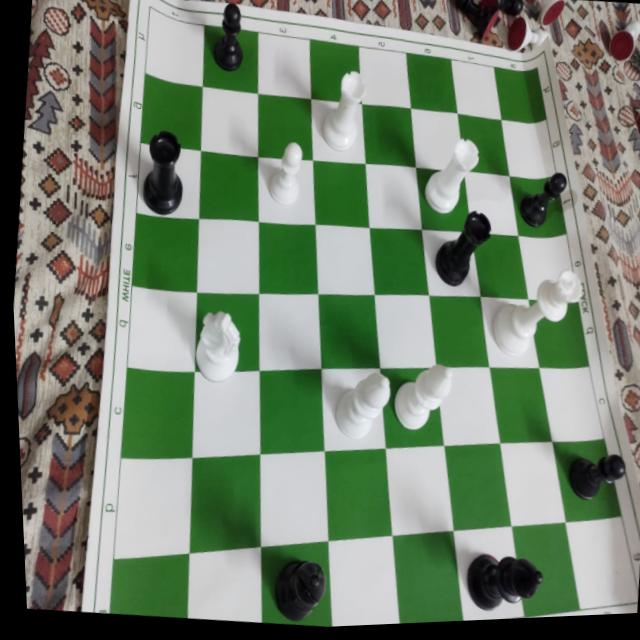board: (89, 0, 639, 627)
square: (113, 458, 192, 559), (189, 454, 260, 553), (565, 516, 638, 610), (453, 526, 524, 621), (120, 367, 194, 458), (392, 530, 463, 624), (511, 522, 580, 616), (328, 536, 400, 626), (260, 451, 328, 546), (324, 448, 392, 541), (260, 541, 332, 627), (385, 446, 453, 536), (191, 371, 260, 458), (127, 286, 195, 373), (444, 443, 511, 531), (552, 438, 621, 522), (259, 368, 324, 454), (500, 441, 565, 527), (187, 547, 261, 622), (131, 212, 199, 292), (321, 368, 385, 451), (109, 553, 189, 618), (380, 368, 444, 449), (194, 293, 259, 372), (435, 367, 500, 445), (136, 142, 201, 218), (140, 72, 202, 151), (538, 367, 604, 441), (258, 293, 321, 370), (197, 218, 259, 294), (145, 7, 204, 86), (318, 294, 380, 369), (489, 367, 551, 442), (374, 294, 436, 368), (429, 295, 489, 368), (258, 223, 318, 294), (314, 224, 374, 294), (480, 297, 539, 368), (528, 299, 589, 367), (199, 151, 258, 221), (257, 156, 315, 225), (369, 228, 428, 295), (421, 229, 480, 296), (201, 87, 257, 157), (517, 235, 577, 299), (313, 160, 369, 228), (365, 163, 422, 229), (257, 93, 313, 160), (202, 25, 257, 93), (471, 233, 528, 298), (415, 167, 471, 232), (463, 170, 518, 235), (258, 32, 311, 99), (361, 103, 416, 167), (311, 99, 365, 164), (509, 175, 566, 236), (410, 108, 464, 172), (309, 40, 361, 104), (358, 46, 411, 108), (457, 113, 509, 176), (501, 118, 556, 176), (405, 53, 457, 113), (450, 59, 501, 120), (493, 67, 546, 120)
